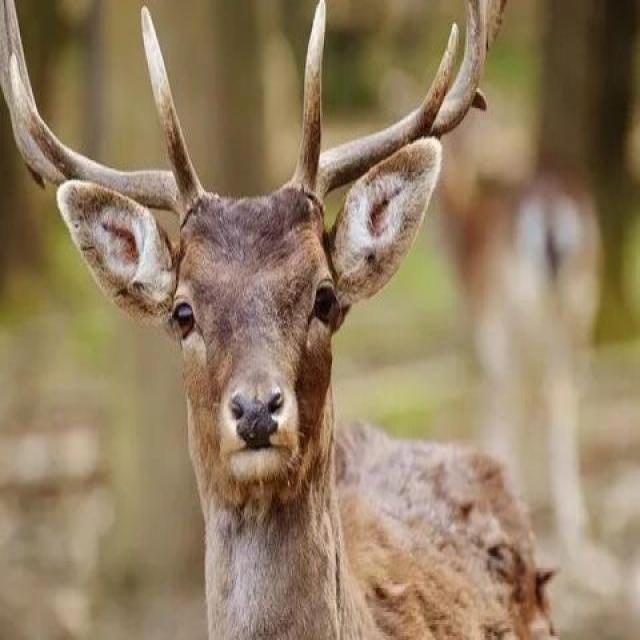deer: (130, 85, 534, 583)
